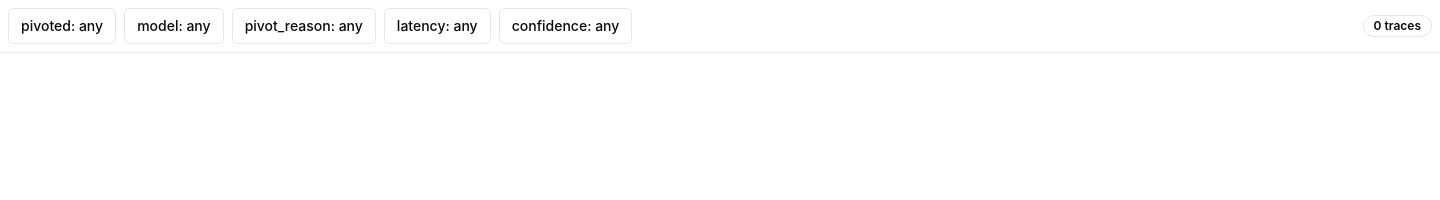
Test case: FilterToolbar (Phase 10 / Plan 10-03 / D-13 / TRC-06) › Clear all button appears only when at least one filter is non-'any', and resetFilters wipes the lot
The image size is (1440, 200).
What coordinates should you click on to do the following:
click the button with test id "chip-pivoted"
I would click on:
 (62, 26)
Its box is top-left (8, 8), bottom-right (116, 44).
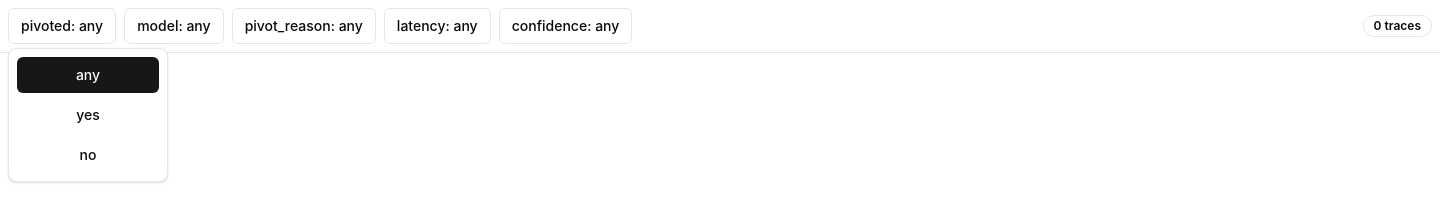
What coordinates should you click on to do the following:
click the button with test id "chip-option-pivoted-yes"
I would click on:
 (88, 115)
Its box is top-left (17, 97), bottom-right (159, 133).
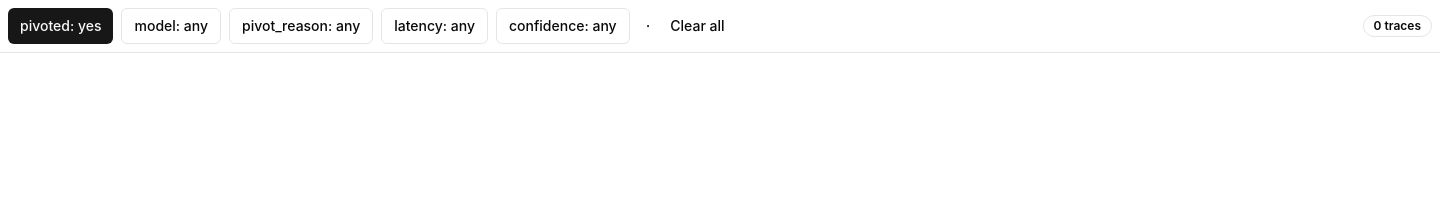
Now the button with test id "filter-clear-all" is shown
What coordinates should you click on to do the following:
click the button with test id "filter-clear-all"
I would click on:
 (697, 26)
Its box is top-left (658, 8), bottom-right (737, 44).
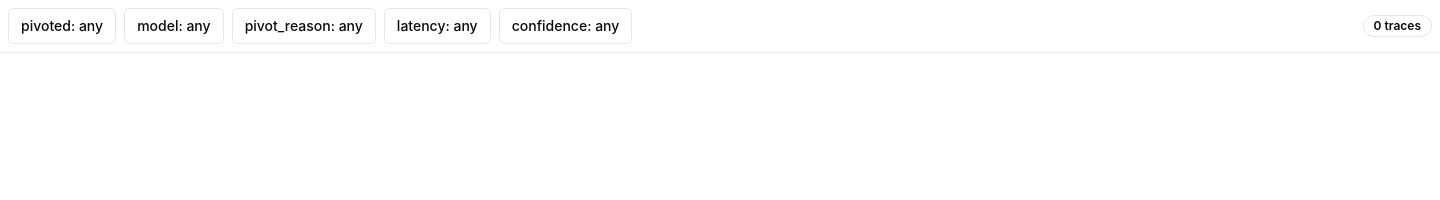
Now the button with test id "filter-clear-all" is gone
